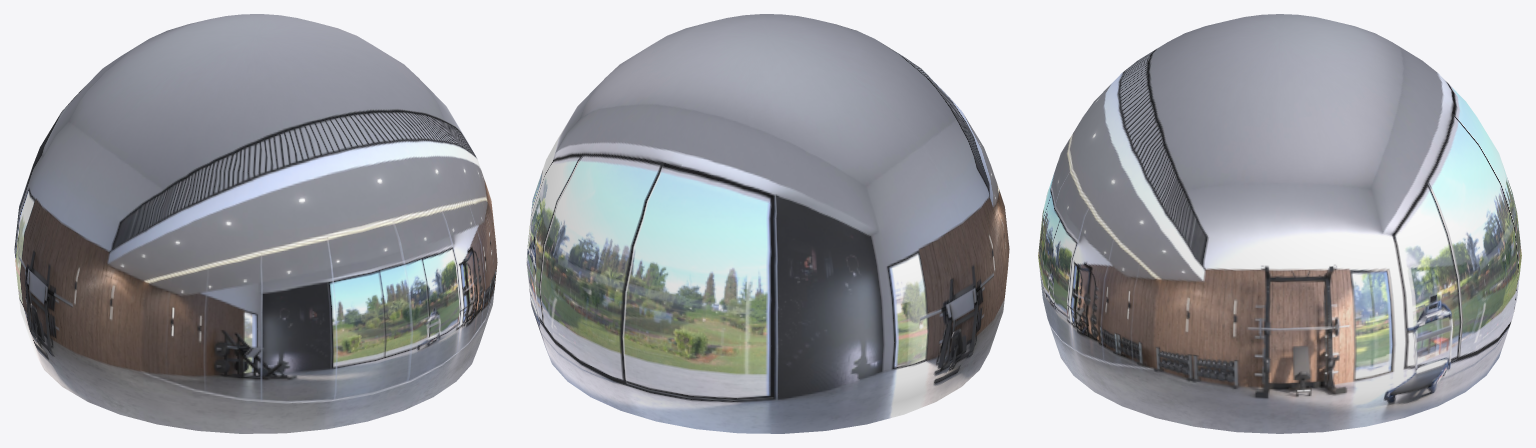
Rendered from Teretanka_1.glb.
3 renders of one model, left to right at view 1: azimuth 30°, elevation 25°; view 2: azimuth 150°, elevation 25°; view 3: azimuth 270°, elevation 25°, orthographic.
Parts seen in each view (by area): view 1: Sphere; view 2: Sphere; view 3: Sphere.
Boxes of the visible parts, x1,y1,x2,y2 form: Sphere: (14,14,497,433); Sphere: (526,14,1009,433); Sphere: (1038,14,1521,433).
Size of the model in its own units: 6 by 4.15 by 6.
1 material, 1 textured.
